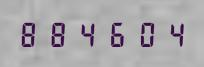eight: (17, 20, 44, 47), (45, 20, 72, 47)
four: (74, 20, 101, 47), (158, 20, 185, 47)
six: (102, 20, 129, 47)
zero: (130, 20, 157, 47)
